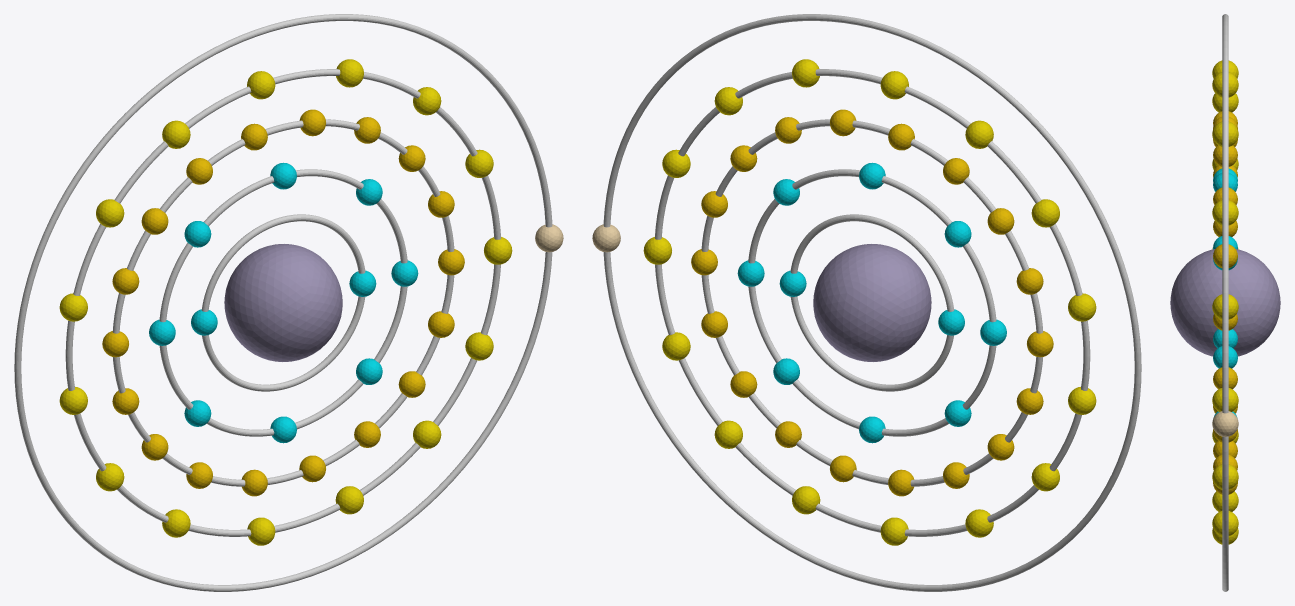
3 renders of one model, left to right at view 1: azimuth 30°, elevation 25°; view 2: azimuth 150°, elevation 25°; view 3: azimuth 270°, elevation 25°, orthographic. The views are drawn at different scales.
Parts seen in each view (by area): view 1: Camada_5, Nucleo_Ru, Camada_4, Camada_3, Camada_2, Camada_1; view 2: Camada_5, Nucleo_Ru, Camada_4, Camada_3, Camada_2, Camada_1; view 3: Nucleo_Ru, Camada_5, e5_1, e4_2, e4_5, e4_15, e4_3, e4_4, e4_14, e4_1, e3_3, e2_1 (+14 smaller).
Boxes of the visible parts, left/top/right/bottom form: Camada_5: left=14, top=14, right=552, bottom=591; Nucleo_Ru: left=224, top=244, right=342, bottom=361; Camada_4: left=65, top=69, right=500, bottom=536; Camada_3: left=112, top=119, right=454, bottom=486; Camada_2: left=159, top=169, right=407, bottom=436; Camada_1: left=201, top=214, right=365, bottom=391; Camada_5: left=603, top=14, right=1141, bottom=591; Nucleo_Ru: left=813, top=244, right=931, bottom=361; Camada_4: left=655, top=69, right=1090, bottom=536; Camada_3: left=701, top=119, right=1043, bottom=486; Camada_2: left=748, top=169, right=996, bottom=436; Camada_1: left=790, top=214, right=954, bottom=391; Nucleo_Ru: left=1170, top=249, right=1280, bottom=356; Camada_5: left=1222, top=14, right=1228, bottom=591; e5_1: left=1212, top=411, right=1238, bottom=436; e4_2: left=1212, top=294, right=1238, bottom=319; e4_5: left=1212, top=72, right=1238, bottom=97; e4_15: left=1212, top=464, right=1238, bottom=489; e4_3: left=1212, top=200, right=1238, bottom=225; e4_4: left=1212, top=121, right=1238, bottom=146; e4_14: left=1212, top=511, right=1238, bottom=535; e4_1: left=1212, top=388, right=1238, bottom=411; e3_3: left=1213, top=244, right=1237, bottom=267; e2_1: left=1213, top=346, right=1237, bottom=368.
Size of the model in its own units: 2.35 by 2.31 by 0.44.
